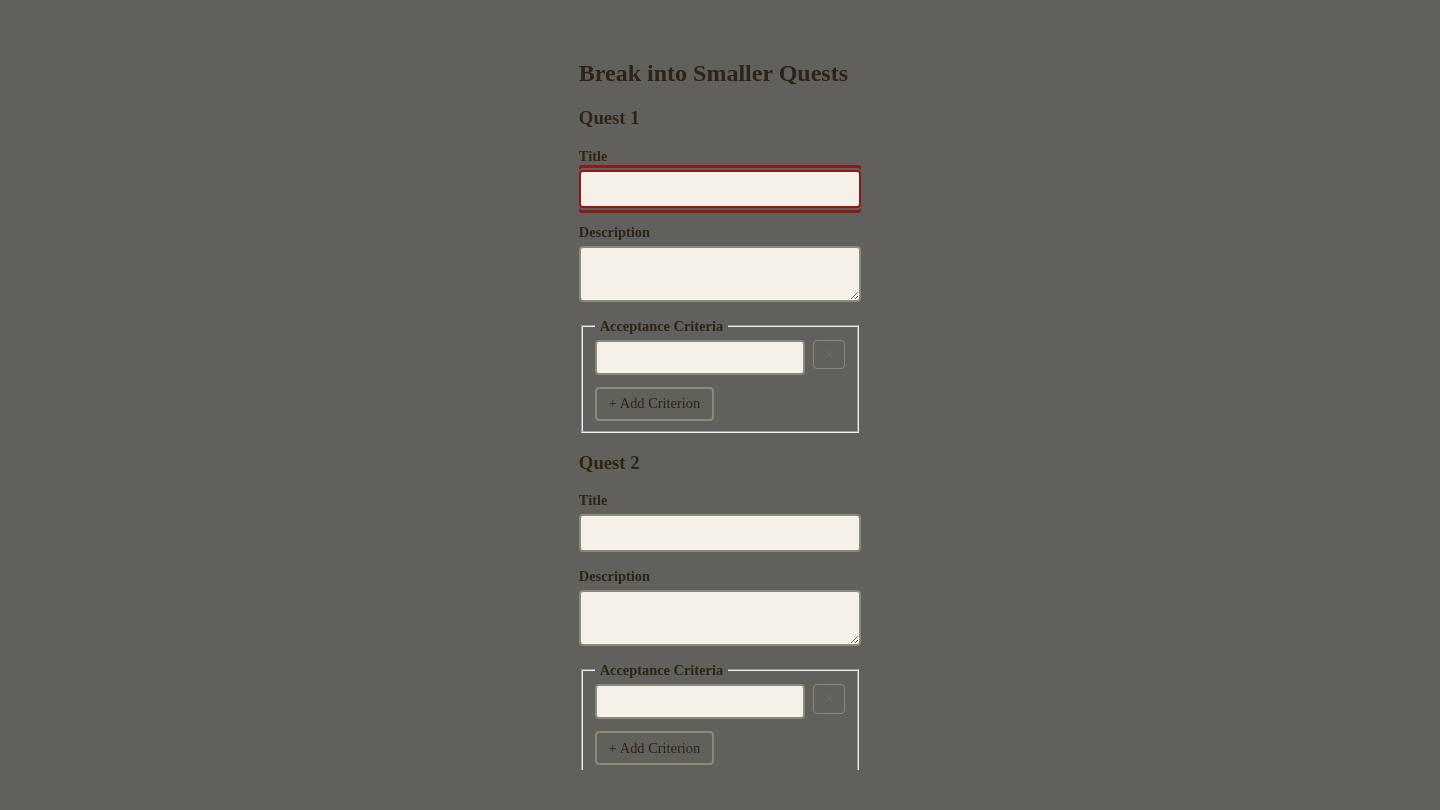
SplitDialog › enables Submit when two valid children are filled
This screenshot has width=1440, height=810.
In the 1st field labelled "Title": (720, 189) [579,170,861,208], type "Quest A"
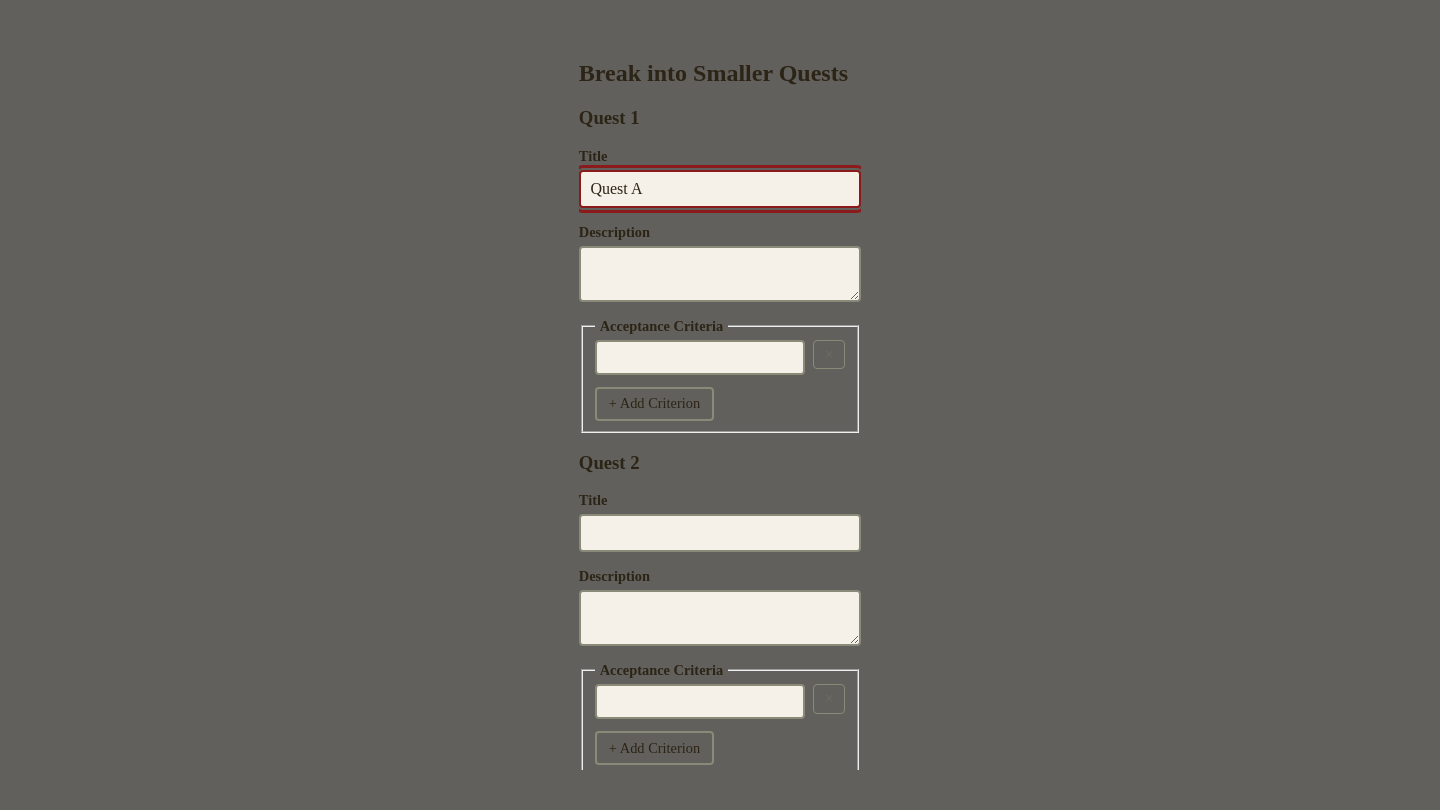
In the 2nd field labelled "Title": (720, 533) [579,514,861,552], type "Quest B"
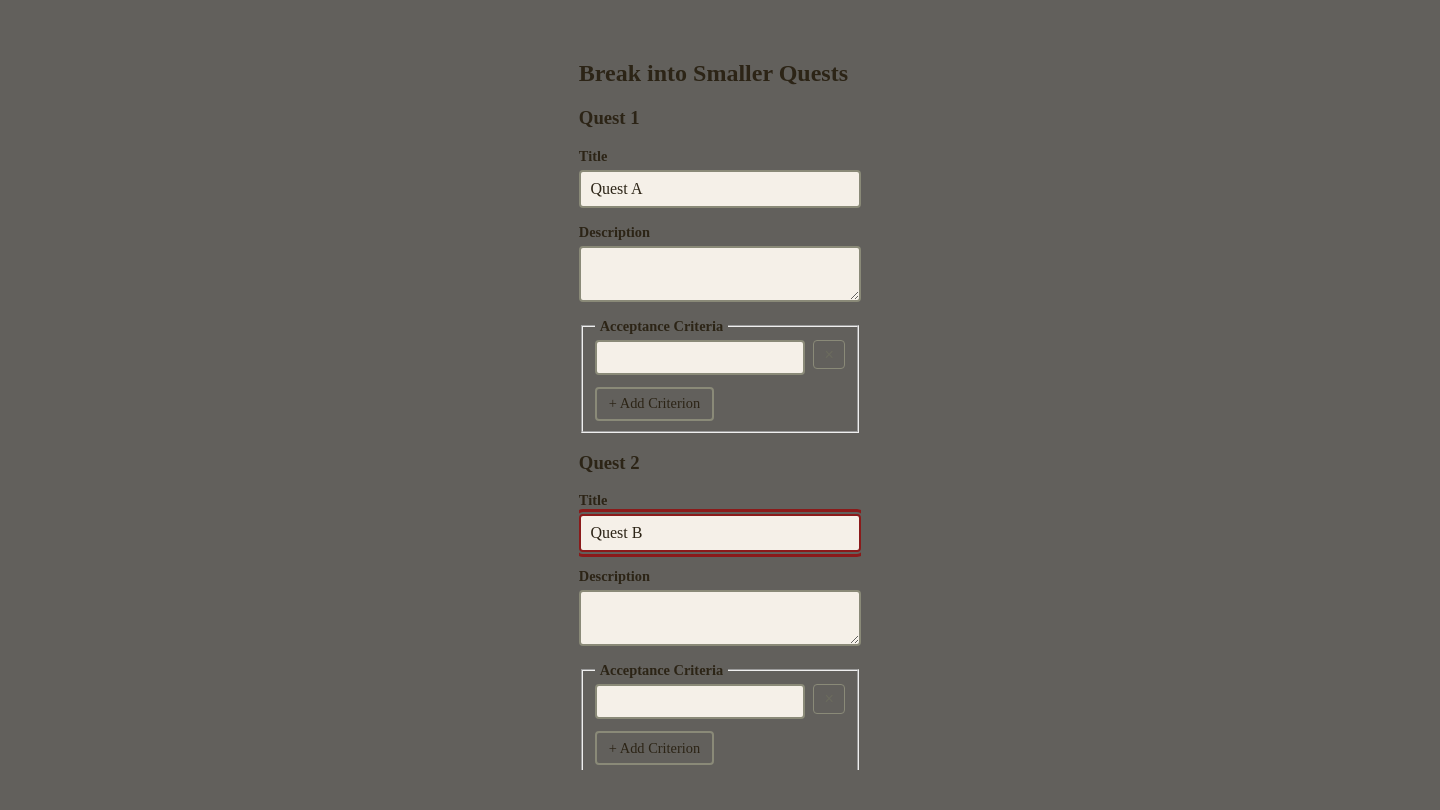
In the field named "Criterion 1 for quest 1": (700, 358) [595,340,805,375], type "AC 1"
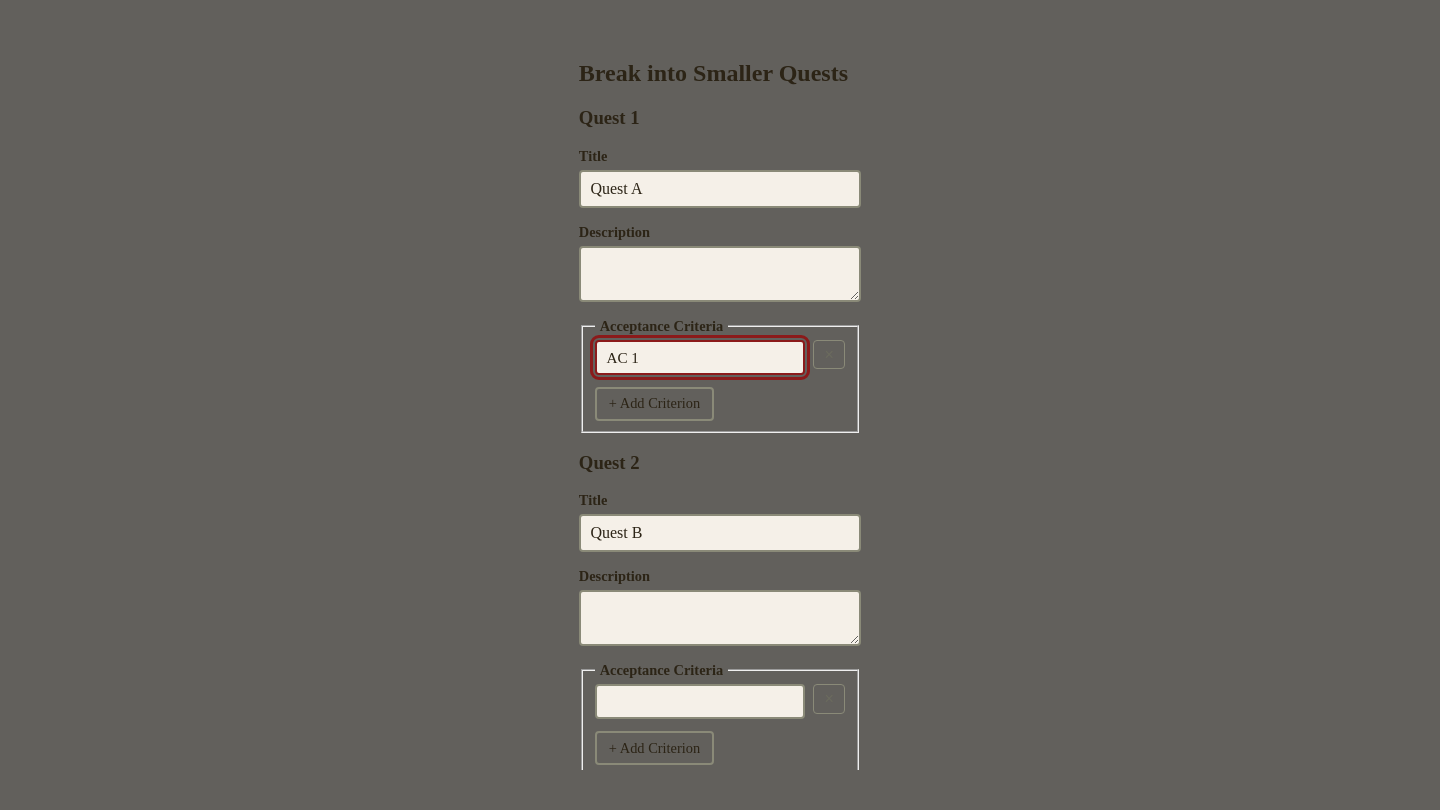
In the field named "Criterion 1 for quest 2": (700, 702) [595,684,805,719], type "AC 2"
(page scrolled)
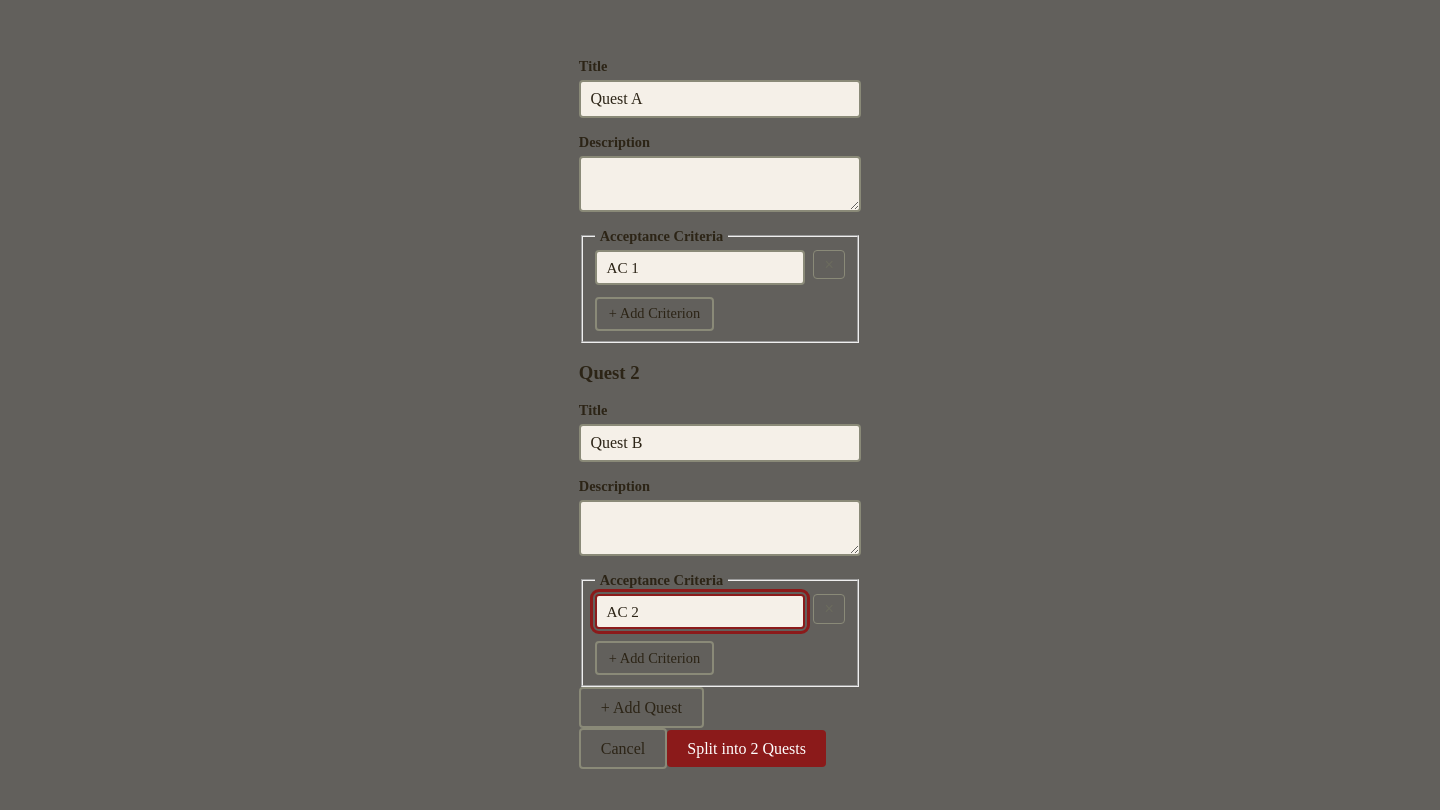
Check: the button "Split into 2 Quests" is enabled, box [667,730,826,767]
